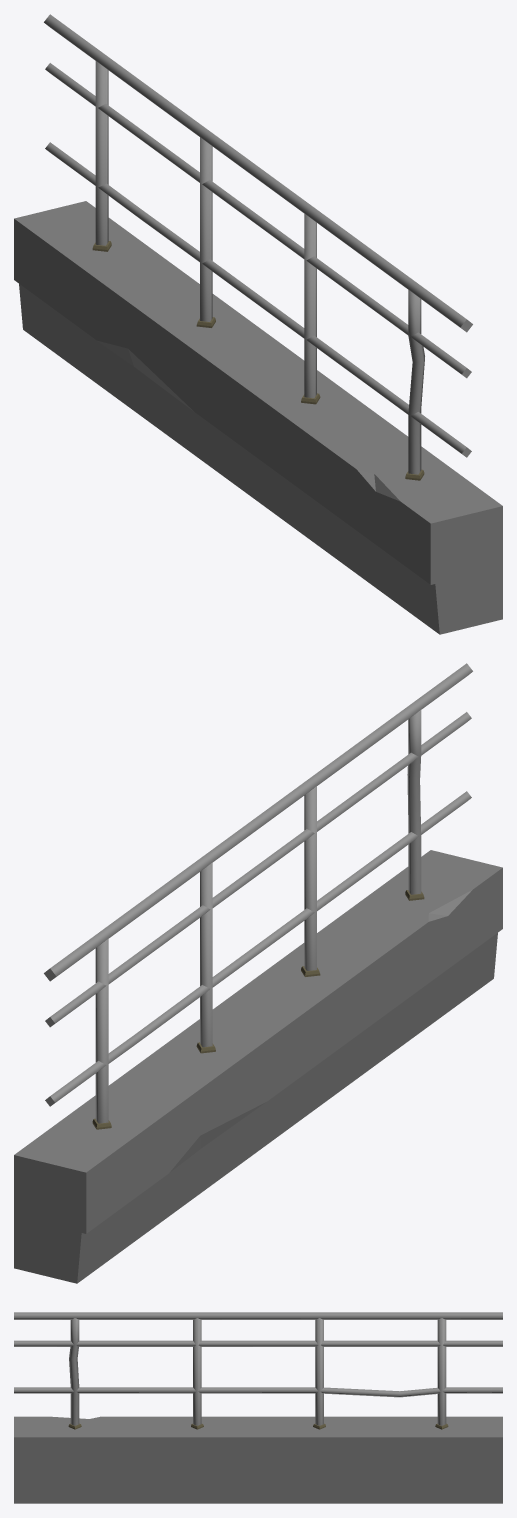
The model's file is SW_ENV_StationStair_Opening_C01_FF.fbx.
3 views of the same model, one above another, from view 1: azimuth 30°, elevation 25°; view 2: azimuth 150°, elevation 25°; view 3: azimuth 270°, elevation 25° (orthographic). The views are drawn at different scales.
Visible parts, largest first — view 1: SW_ENV_StationStair_Opening_C01_FF; view 2: SW_ENV_StationStair_Opening_C01_FF; view 3: SW_ENV_StationStair_Opening_C01_FF.
Boxes of the visible parts, <box> form: SW_ENV_StationStair_Opening_C01_FF: <box>14,14,502,634</box>; SW_ENV_StationStair_Opening_C01_FF: <box>14,663,502,1283</box>; SW_ENV_StationStair_Opening_C01_FF: <box>14,1312,502,1503</box>.
Bounding box in the file's own units: 0.4 × 1.64 × 4.
